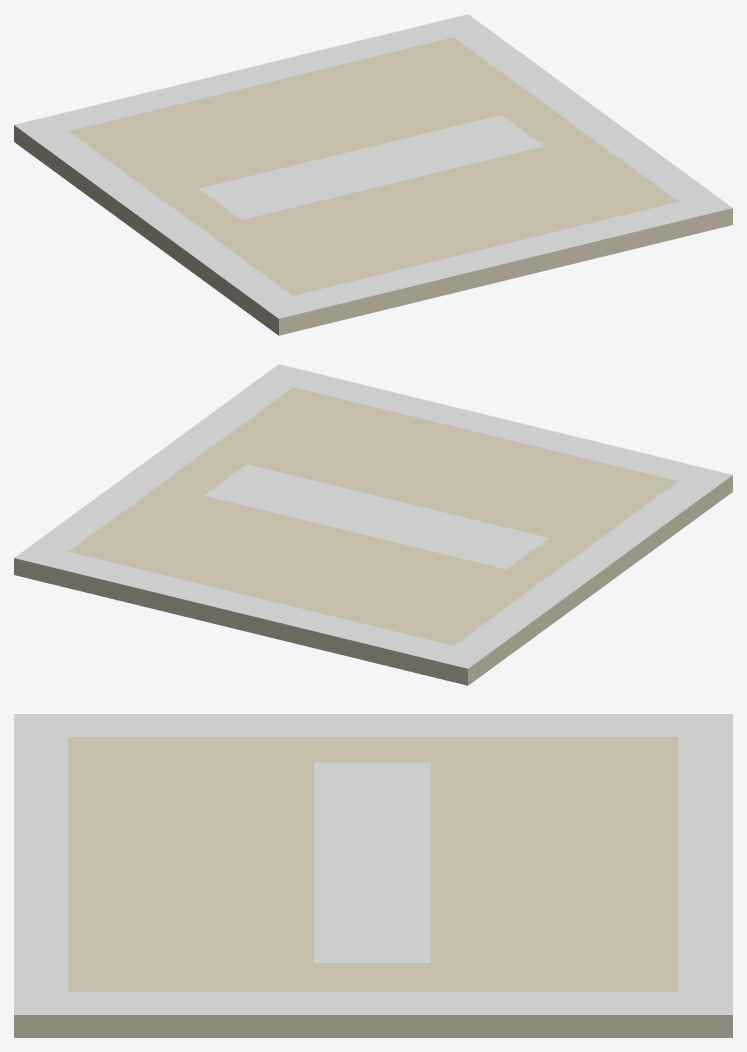
Rendered from Floor_2.fbx.
The picture shows the model from 3 angles, top to bottom: view 1: azimuth 30°, elevation 25°; view 2: azimuth 150°, elevation 25°; view 3: azimuth 270°, elevation 25°; orthographic projection. The views are drawn at different scales.
Visible parts, largest first — view 1: Floor_2; view 2: Floor_2; view 3: Floor_2.
Part boxes in pixels (bbox=[...]): Floor_2: bbox=[14, 14, 732, 335]; Floor_2: bbox=[14, 364, 732, 685]; Floor_2: bbox=[14, 714, 732, 1037].
Bounding box in the file's own units: 176 × 6.28 × 178.
